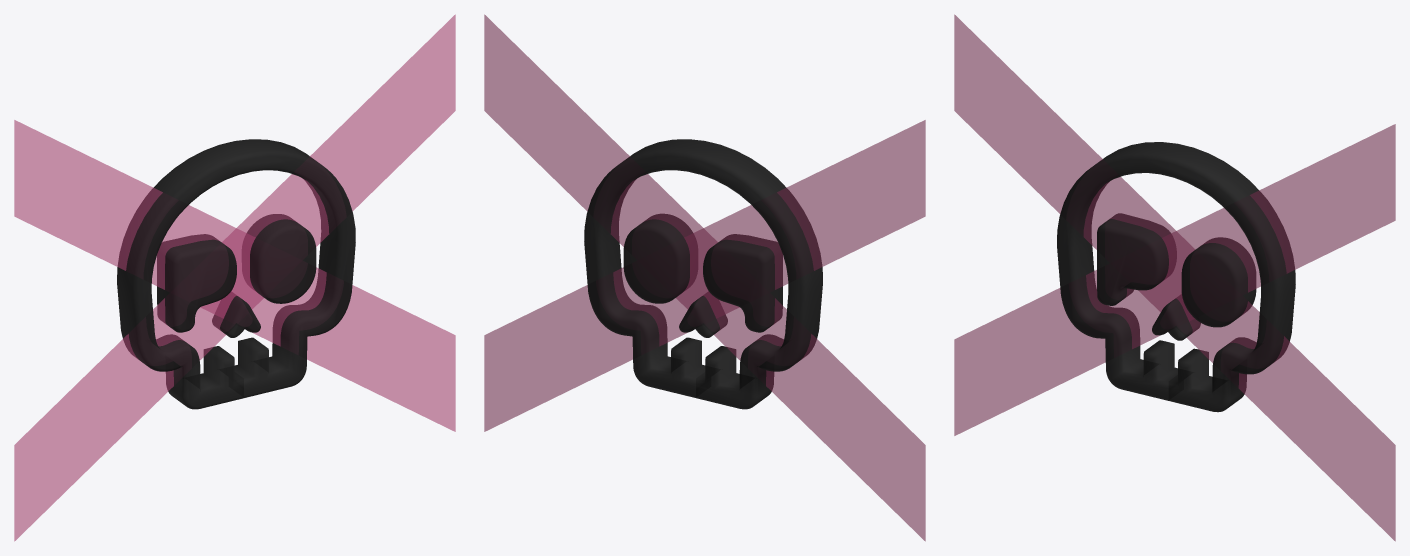
Rendered from pirates_mark.glb.
3 renders of one model, left to right at view 1: azimuth 30°, elevation 25°; view 2: azimuth 150°, elevation 25°; view 3: azimuth 330°, elevation 25°, orthographic.
Parts seen in each view (by area): view 1: Curve.004, Curve.001, Curve; view 2: Curve.004, Curve.001, Curve; view 3: Curve.004, Curve, Curve.001.
Boxes of the visible parts, box(x1,y1,x2,y2) form: Curve.004: box(117, 139, 355, 409); Curve.001: box(14, 14, 455, 541); Curve: box(14, 120, 455, 431); Curve.004: box(584, 139, 822, 409); Curve.001: box(484, 14, 925, 541); Curve: box(484, 120, 925, 431); Curve.004: box(1057, 142, 1295, 412); Curve: box(954, 14, 1395, 541); Curve.001: box(954, 124, 1395, 435).
Bounding box in the file's own units: 16.74 × 15.31 × 1.31.
